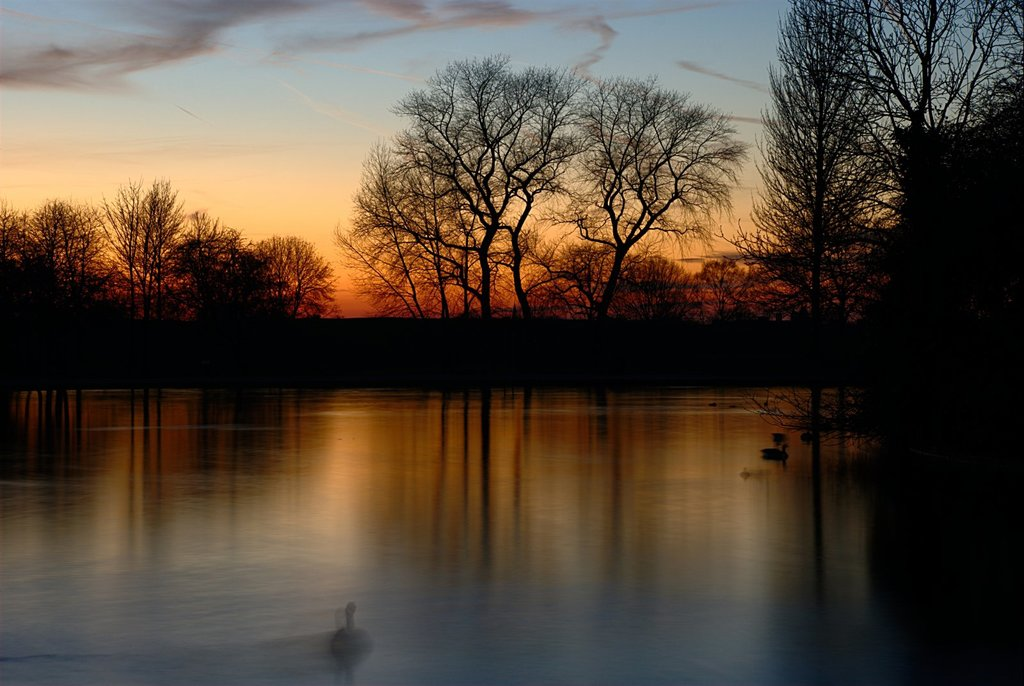Tree: (712, 0, 894, 427), (326, 56, 595, 319), (552, 74, 748, 313), (0, 183, 264, 318), (865, 1, 1023, 136), (264, 232, 348, 321)
